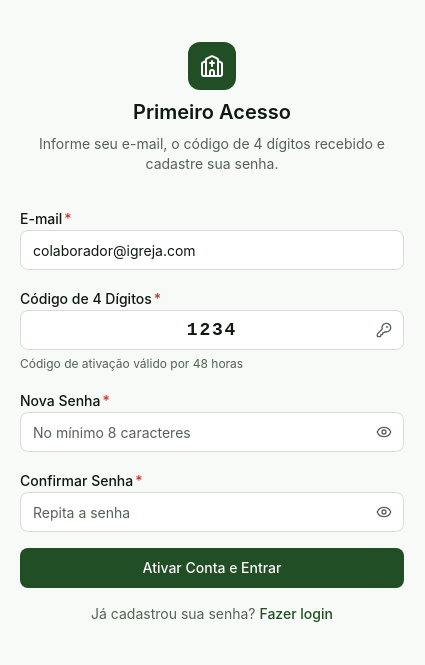
Test: FirstAccessPage › valida senhas divergentes
Step 1. Type "senha1234" into the password field labelled "Nova Senha*" → (212, 432), box [20, 412, 404, 452]
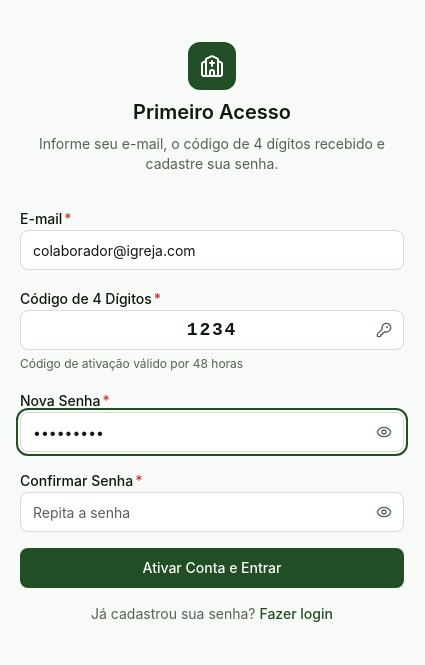
Step 2. Type "outrasenha123" into the password field labelled "Confirmar Senha*" → (212, 512), box [20, 492, 404, 532]
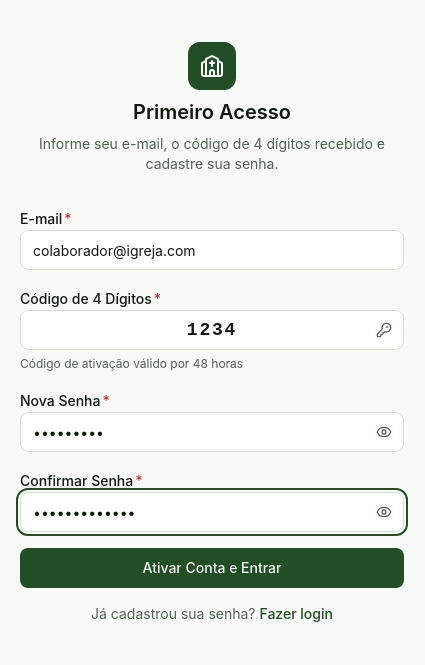
Step 3. Click the button "Ativar Conta e Entrar" → (212, 568), box [20, 548, 404, 588]
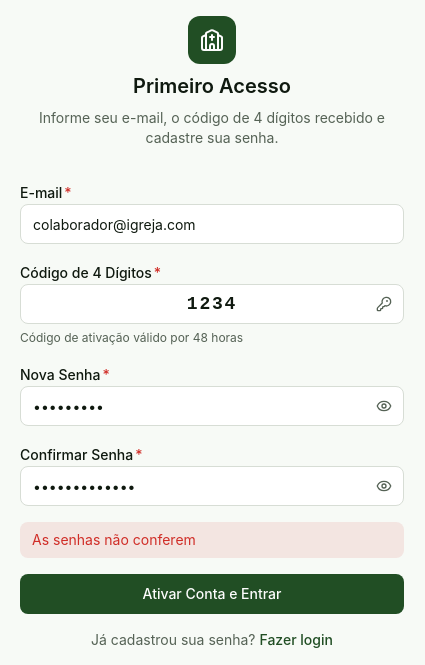
Now the text "As senhas não conferem" is shown, box [20, 522, 404, 558]
